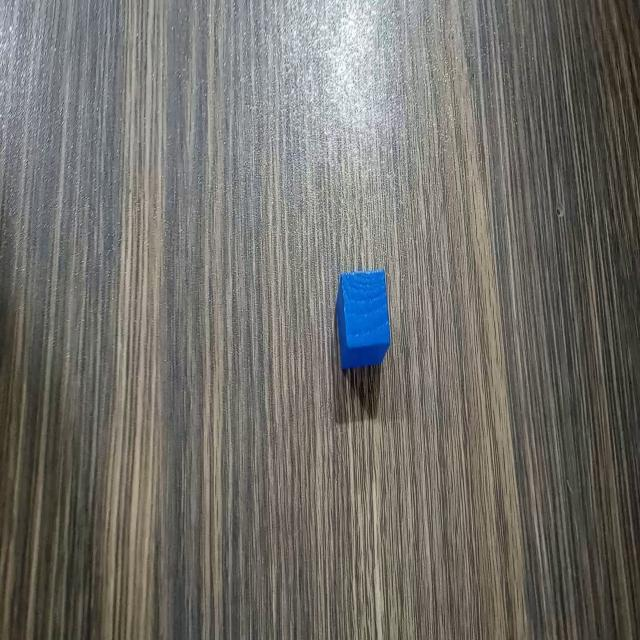cube: (332, 266, 393, 372)
